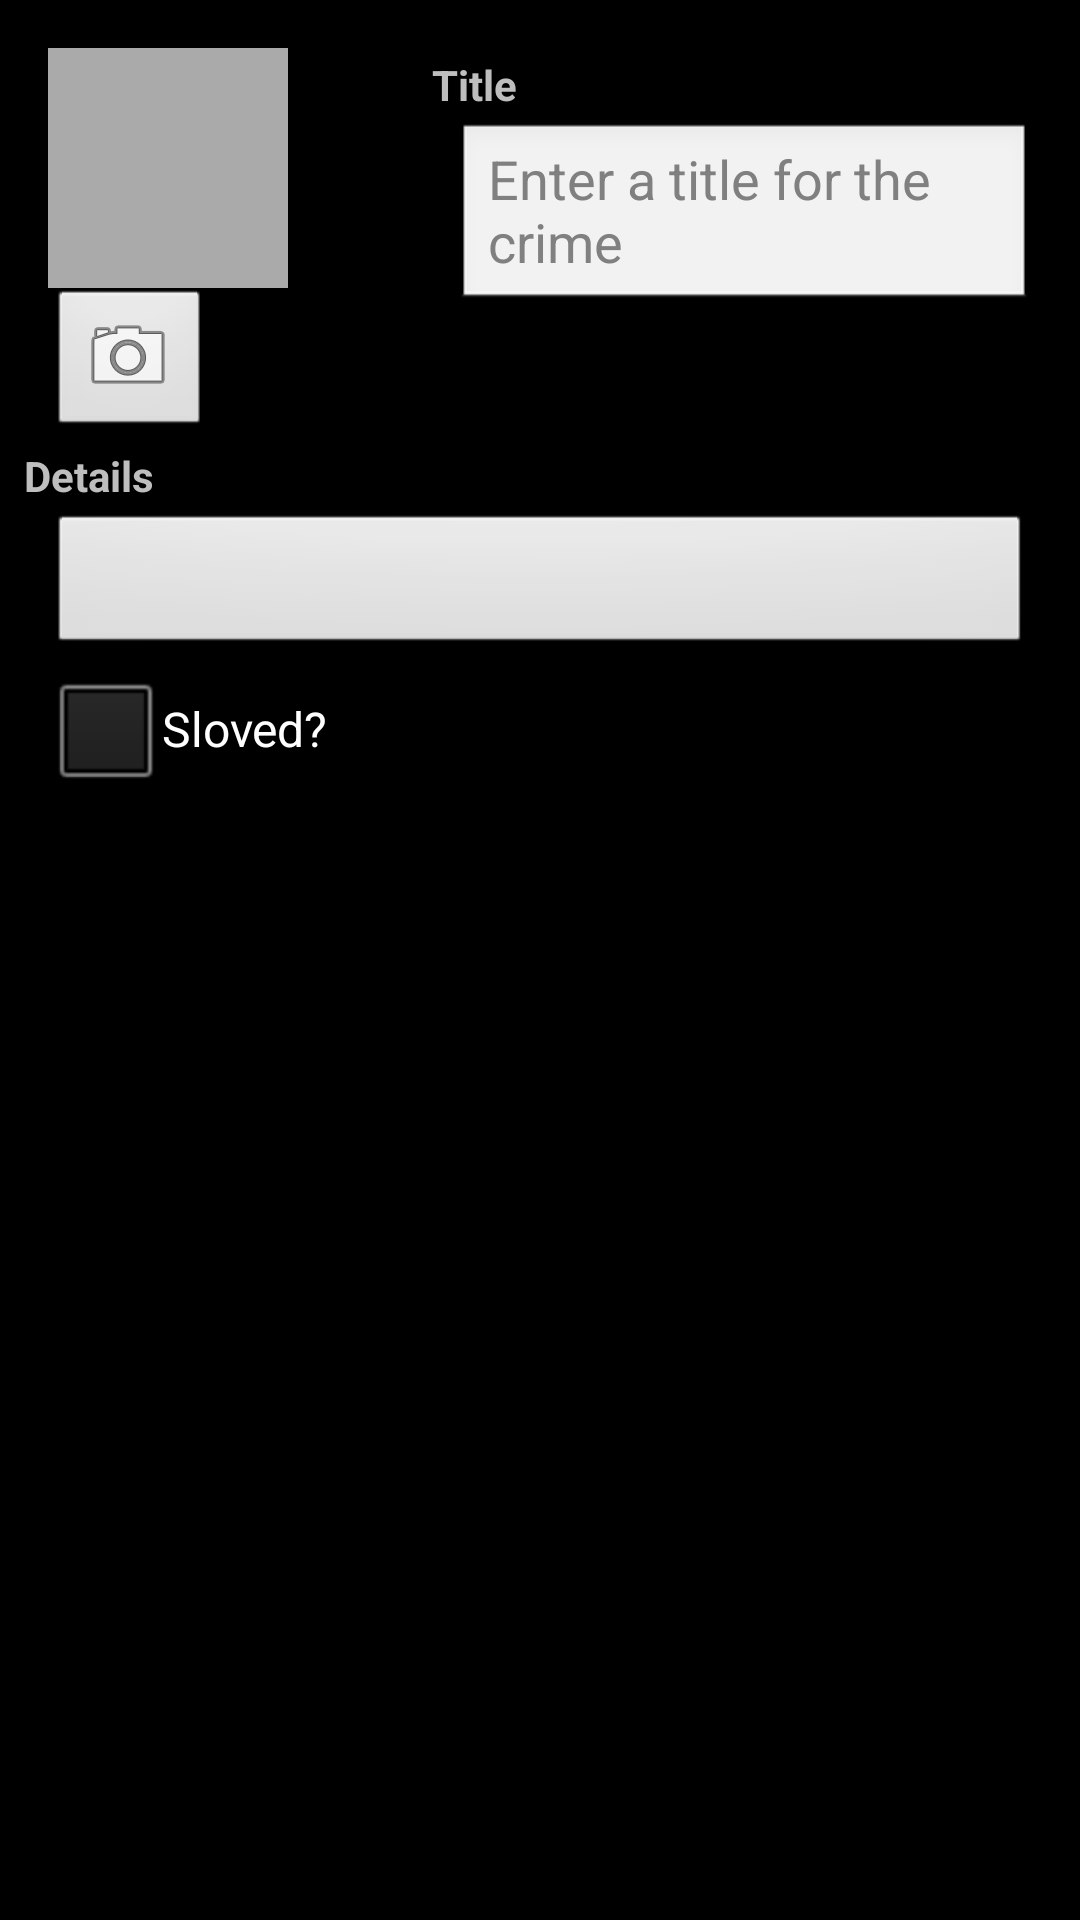

Screen size 1080w x 1920h. Icon name, then its box in pixels as bbox=(x1, y1, x2, y2):
camera: bbox=(58, 291, 200, 423)
